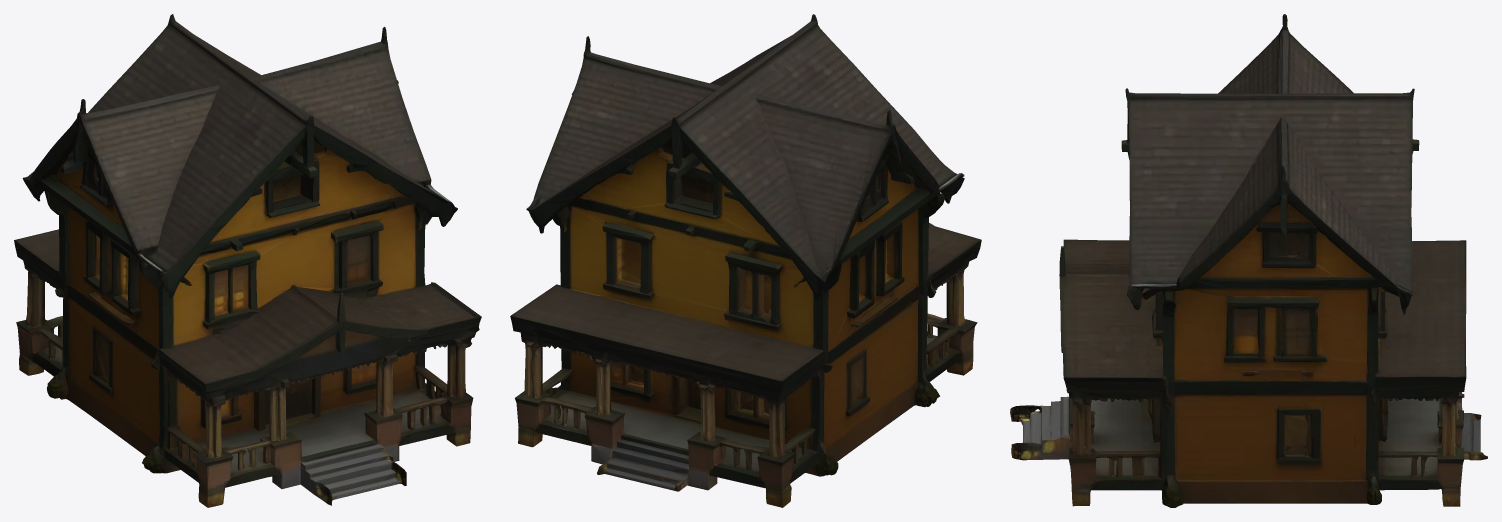
The model's file is house_victorian_yellow_2.glb.
3 views of the same model, side by side, from view 1: azimuth 30°, elevation 25°; view 2: azimuth 150°, elevation 25°; view 3: azimuth 270°, elevation 25° (orthographic). The views are drawn at different scales.
Visible parts, largest first — view 1: geometry_0; view 2: geometry_0; view 3: geometry_0.
Part boxes in pixels (bbox=[...]): geometry_0: bbox=[14, 14, 481, 507]; geometry_0: bbox=[510, 14, 981, 507]; geometry_0: bbox=[1010, 14, 1487, 507].
Size of the model in its own units: 0.8295 by 0.8023 by 0.9866.
1 material, 1 textured.
